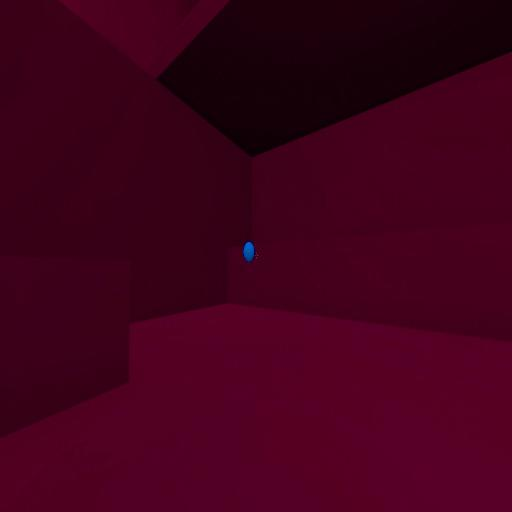Crosshair: (254, 252, 258, 260)
Target: (242, 241, 254, 263)
